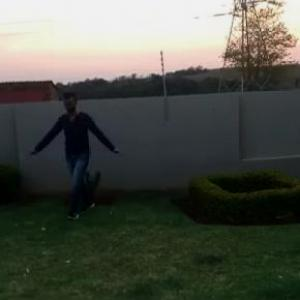land: (35, 106, 116, 219)
